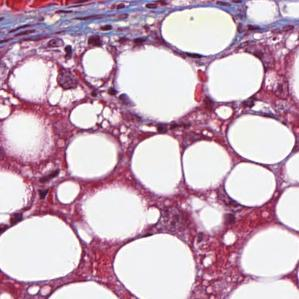ballooning: (6, 52, 89, 111), (4, 108, 61, 168)
